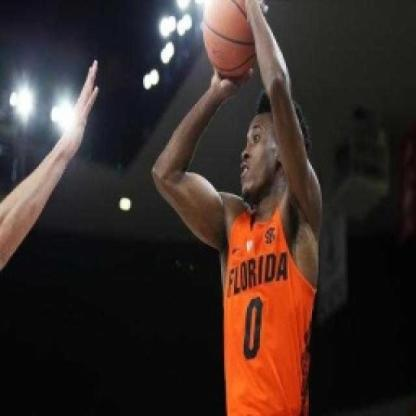basketball: (198, 0, 265, 81)
